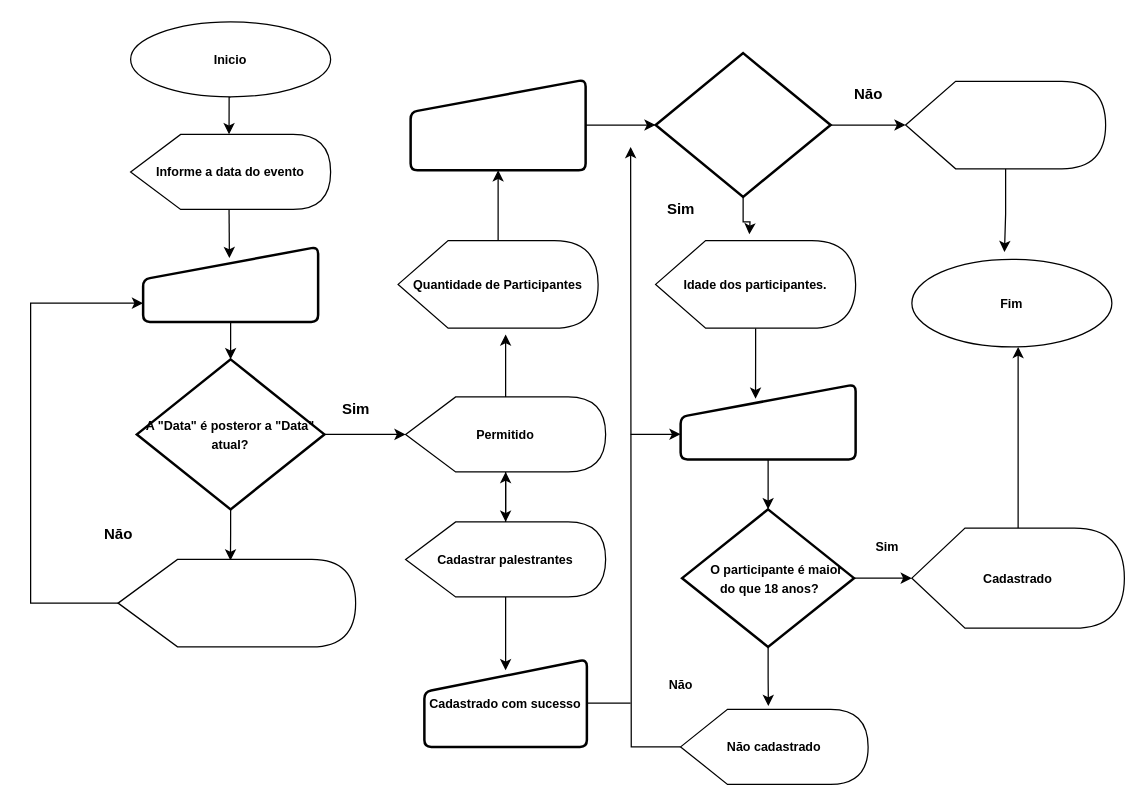
Image size: 1146x806. Some labels were removed from this diagram. The centre of each missing label's shape, as x and y in pixels:
A quantidade de participantes é maior do que 100?: (742,124)
Dados: (230,283)
Idade: (767,421)
Limite excedido: (1005,124)
Nāo permitido "Data Invalida": (236,602)
Quantidade: (497,124)
